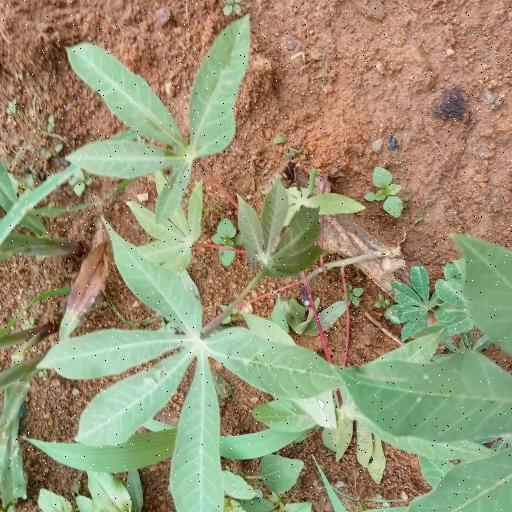Cassava_Mosaic: (54, 222, 326, 506)
